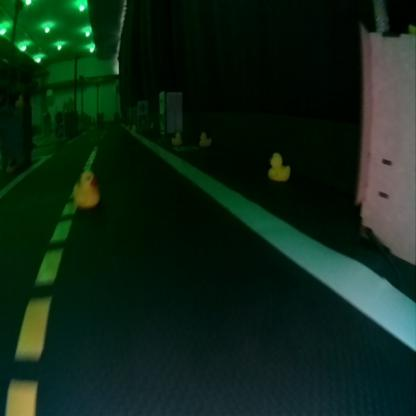Duckie: (72, 171, 100, 206), (267, 152, 288, 178), (199, 132, 211, 146), (172, 132, 182, 144)
